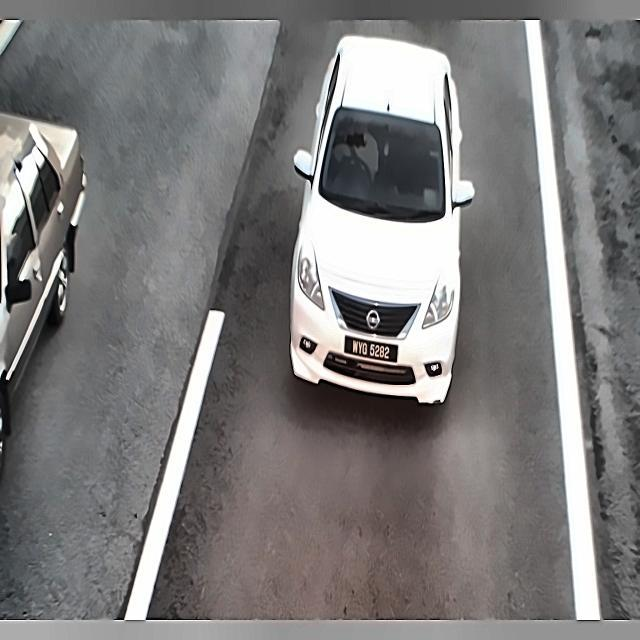car: (343, 333, 401, 367)
